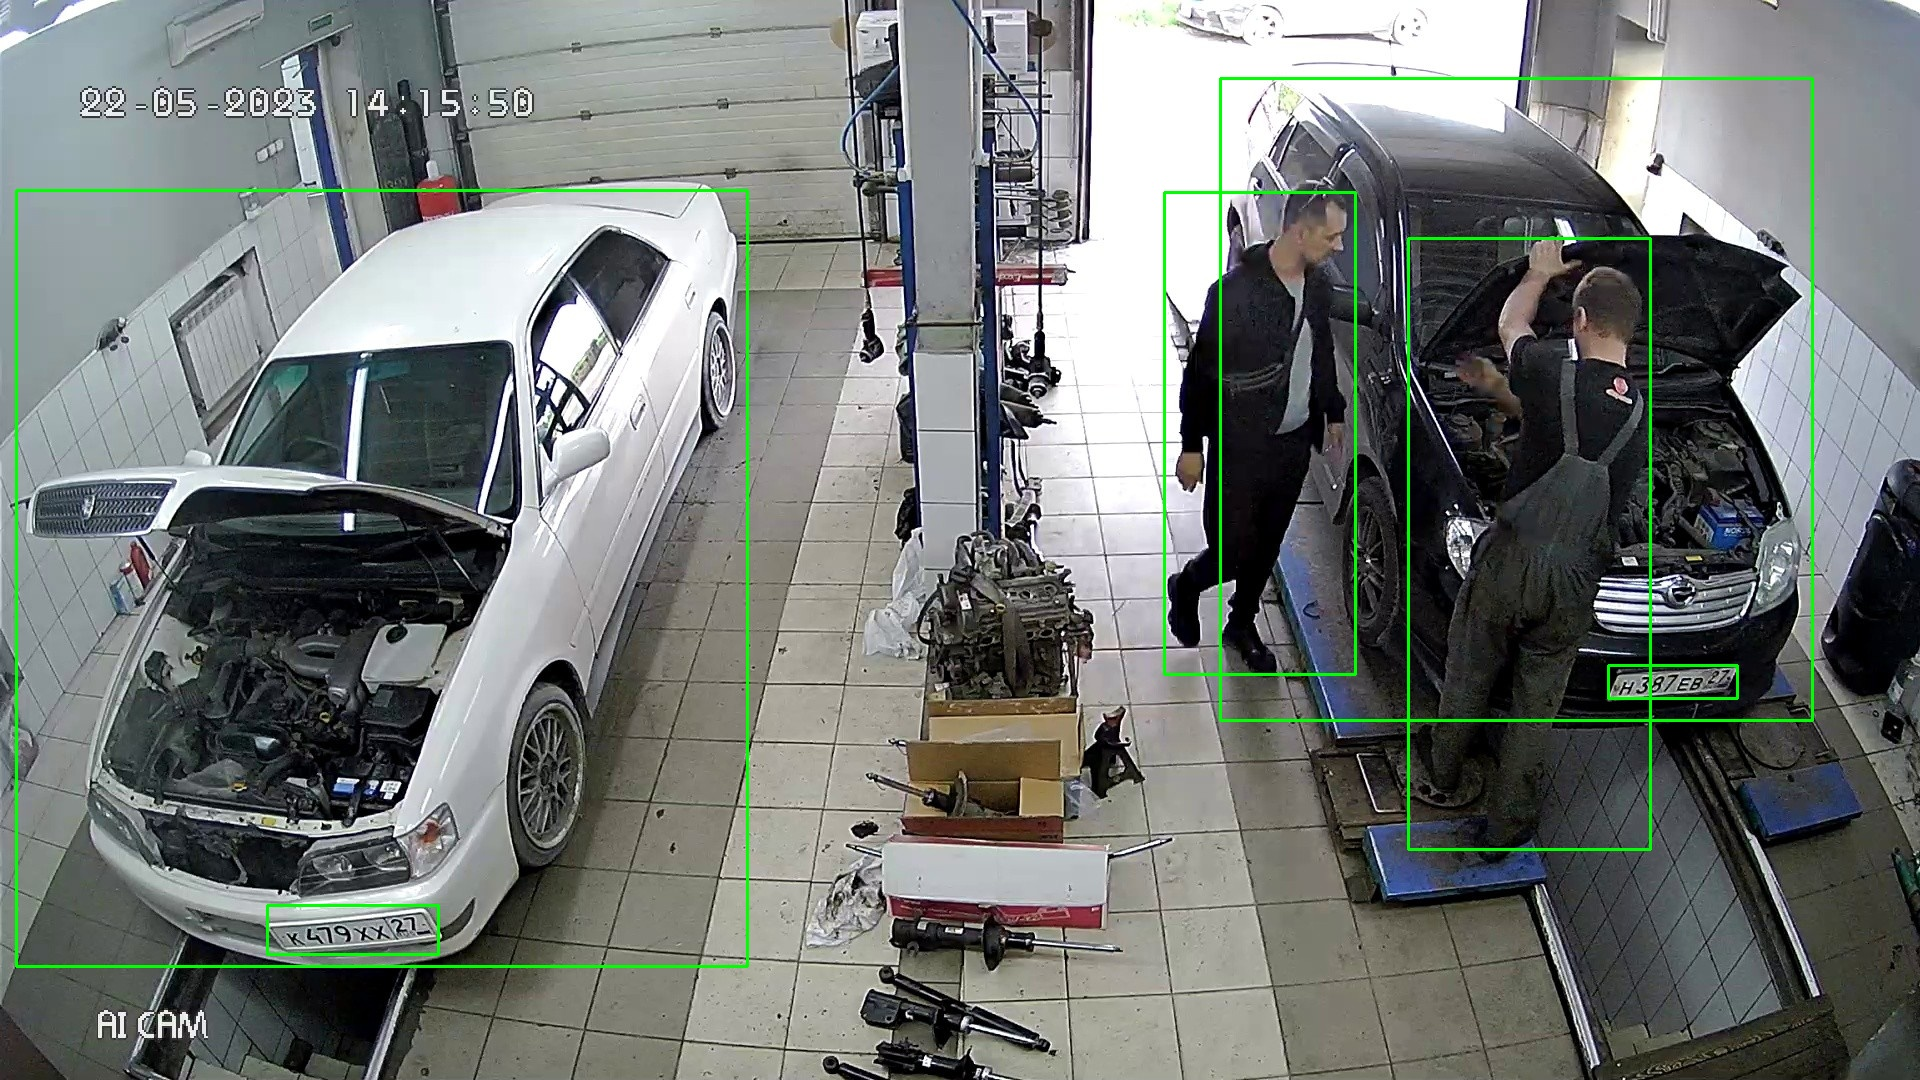car: (16, 190, 747, 966), (1220, 78, 1812, 720)
person: (267, 905, 438, 954), (1608, 665, 1737, 698)
plate: (1408, 238, 1650, 849), (1164, 192, 1355, 674)
